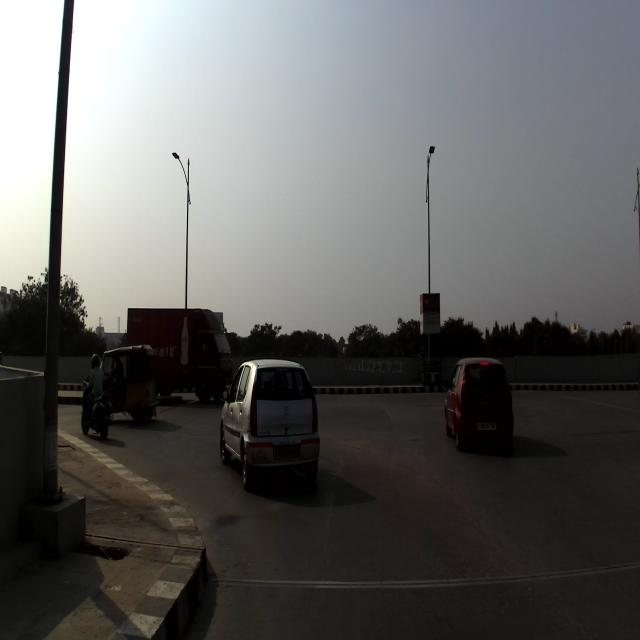car ahead at: (216, 354, 321, 490), (442, 348, 512, 458)
